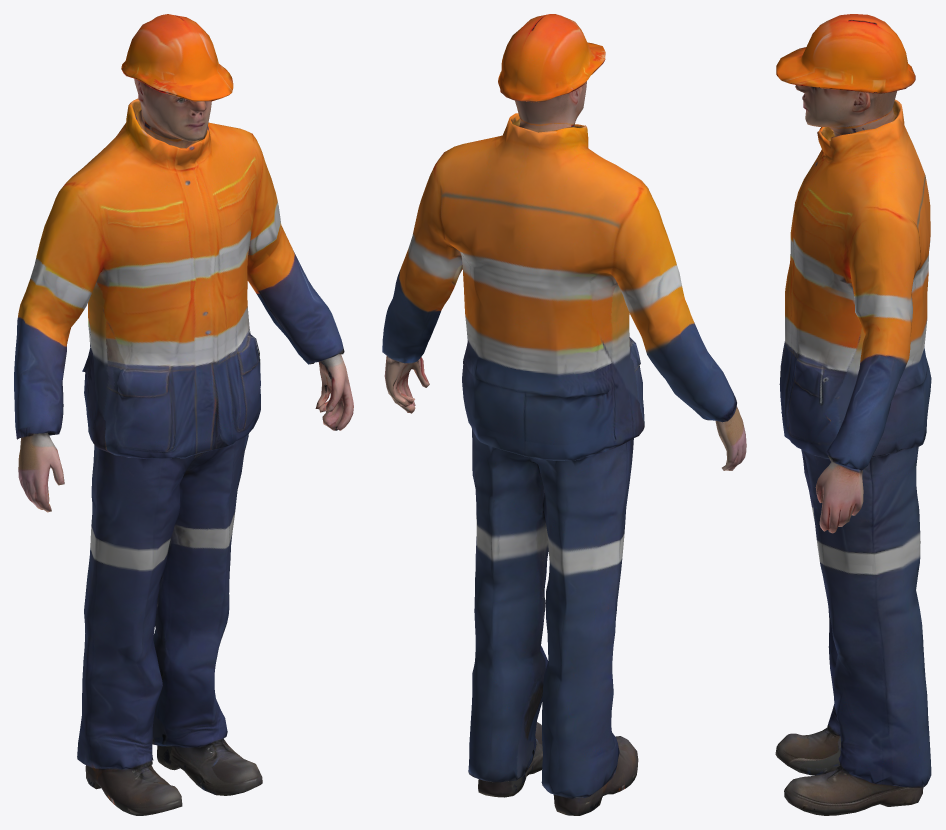
Rendered from Animation_Walking_withSkin.glb.
The picture shows the model from 3 angles, left to right: view 1: azimuth 30°, elevation 25°; view 2: azimuth 150°, elevation 25°; view 3: azimuth 270°, elevation 25°; orthographic projection.
Bounding box in the file's own units: 0.9286 × 2 × 0.3668.
Materials: 1 (1 with a texture image).
